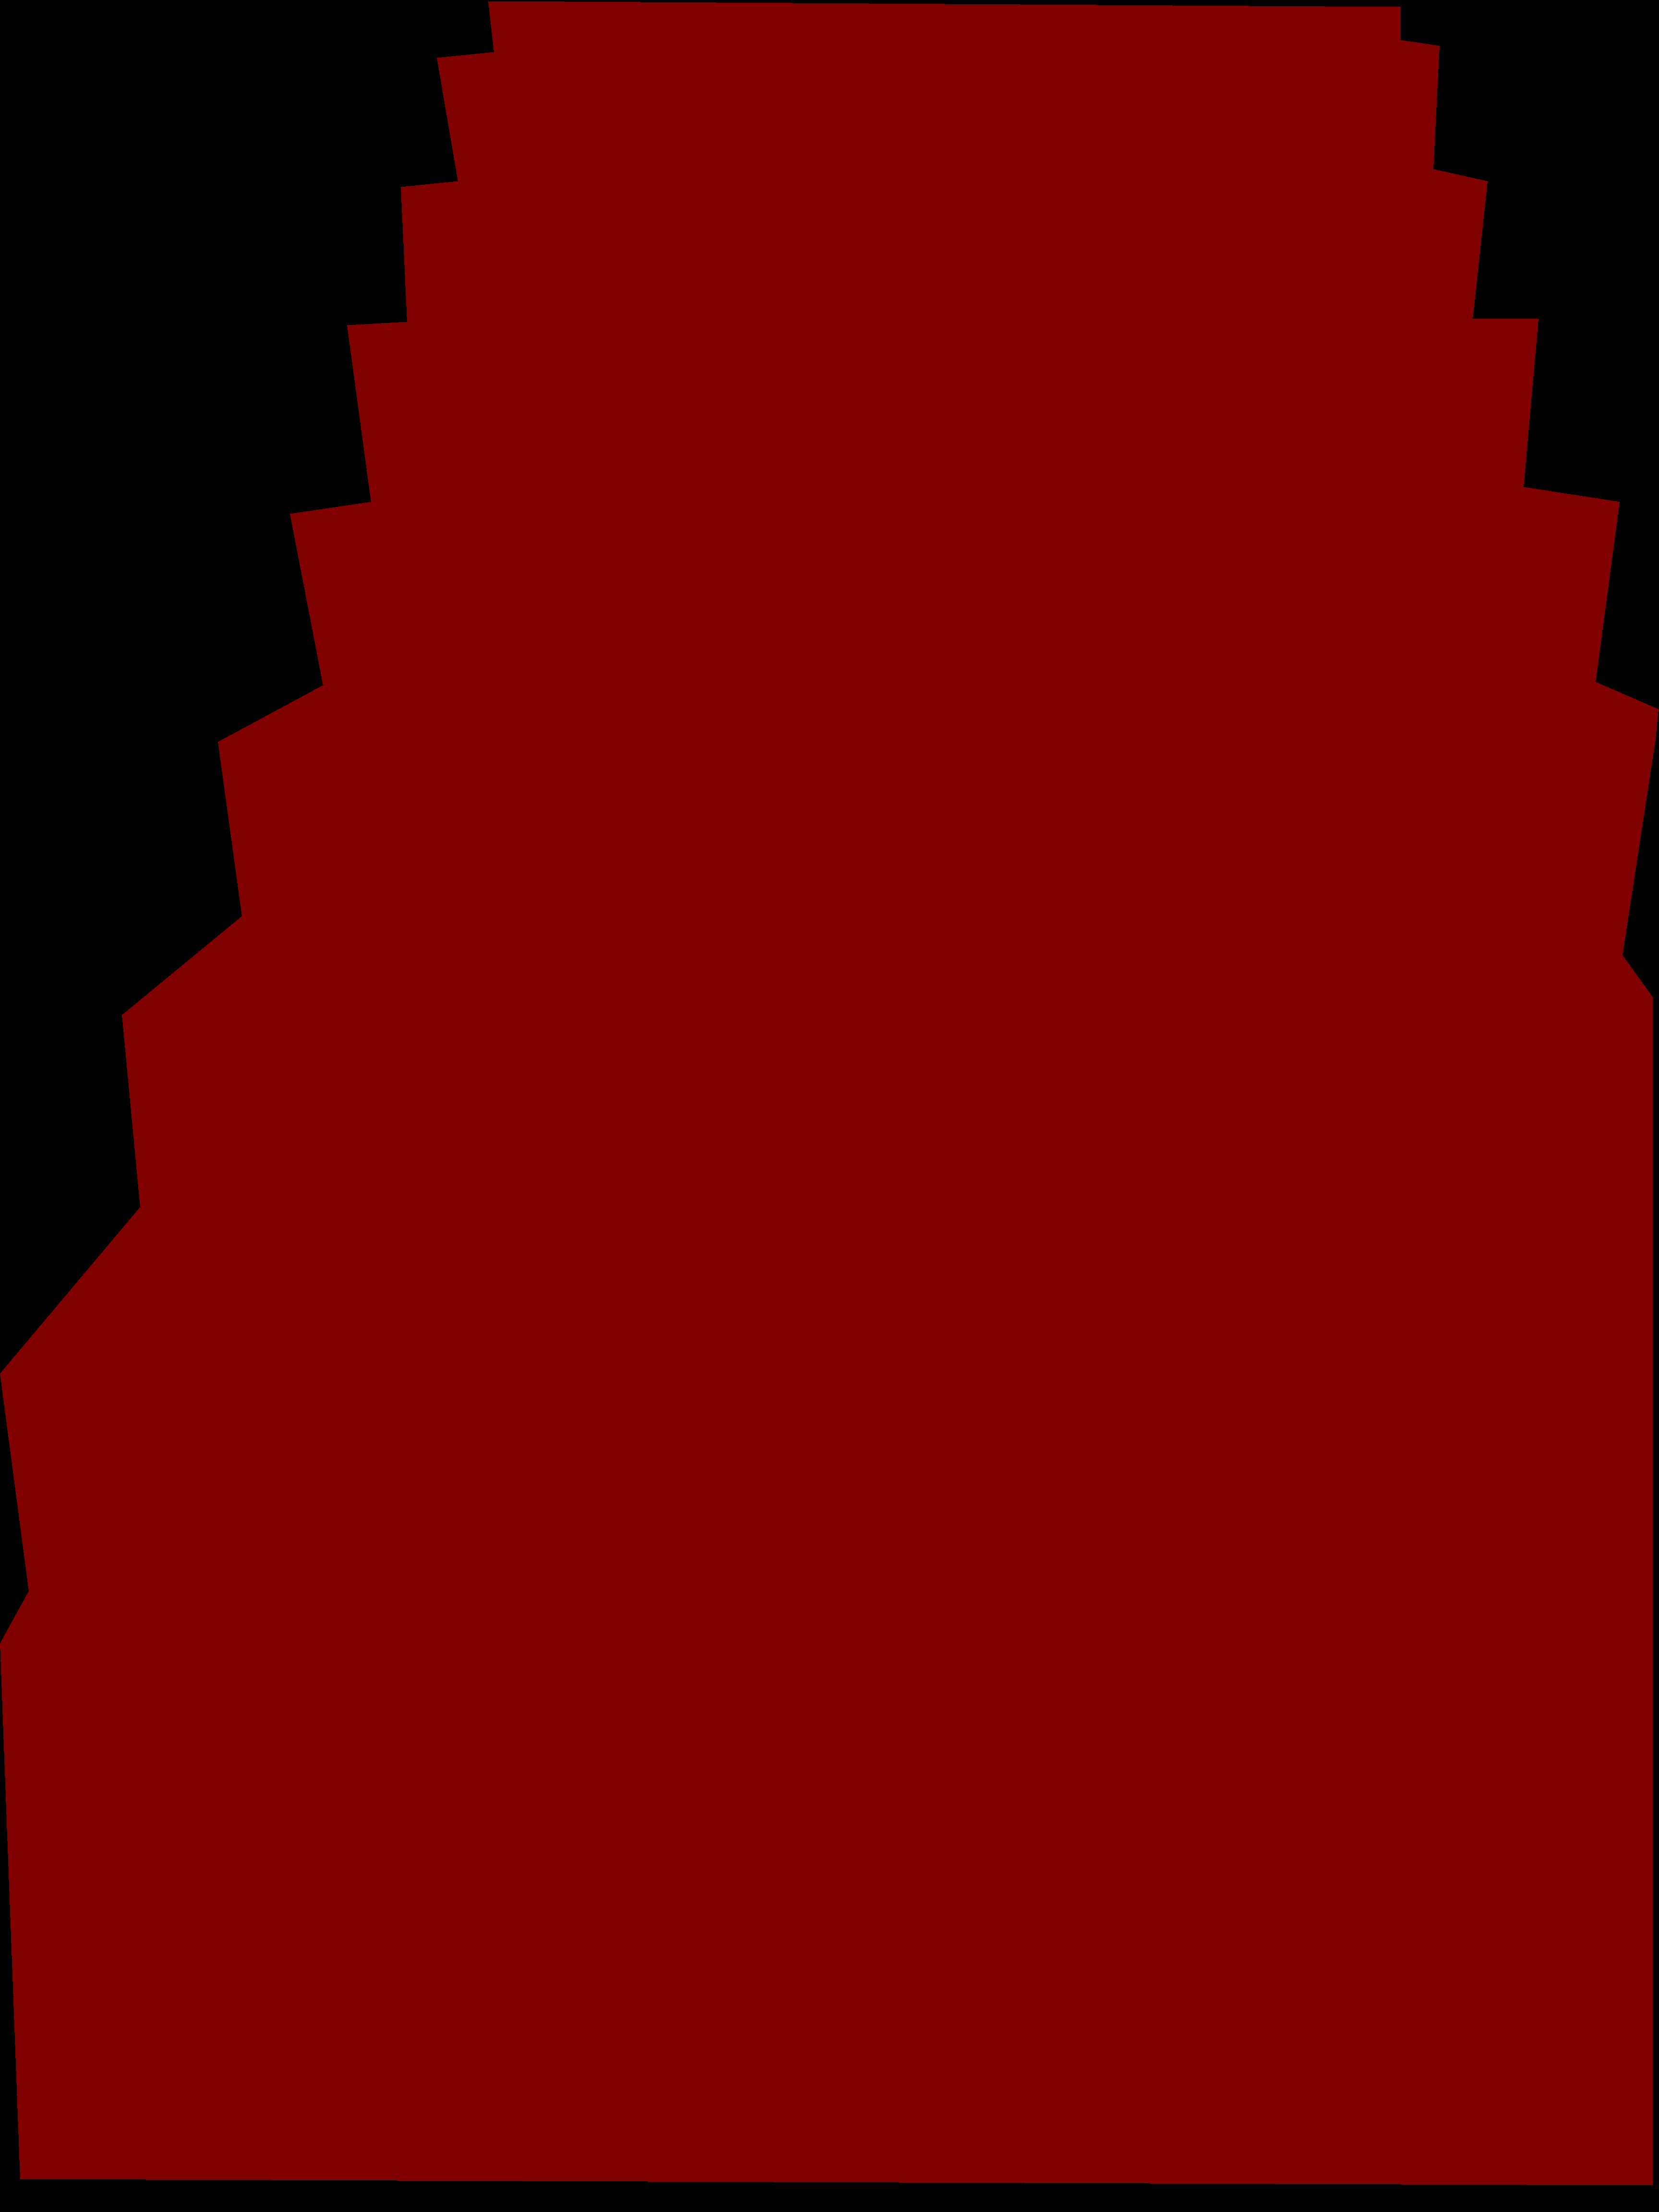stair: (0, 2, 1657, 2186)
